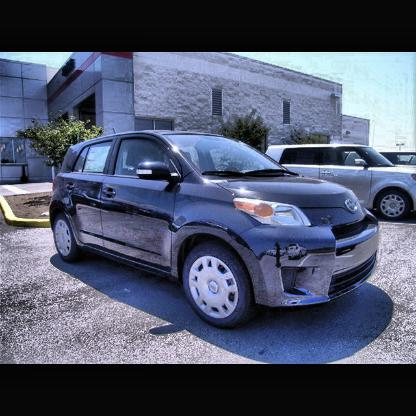Scion xD Hatchback 2012: (49, 127, 381, 333)
